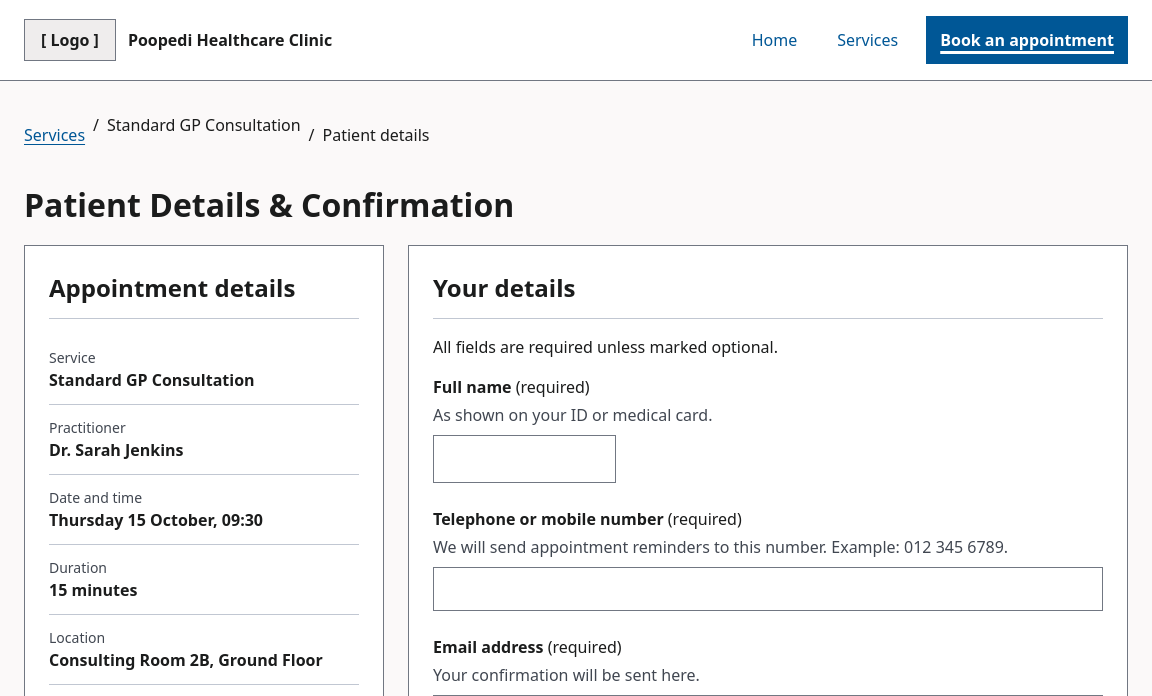
Test: BookingPage form › opens a confirmation dialog on a valid submit and moves focus into it
Type "Thandi Mokoena" into the field labelled "Full name (required)" at (524, 459), box [433, 435, 616, 483]
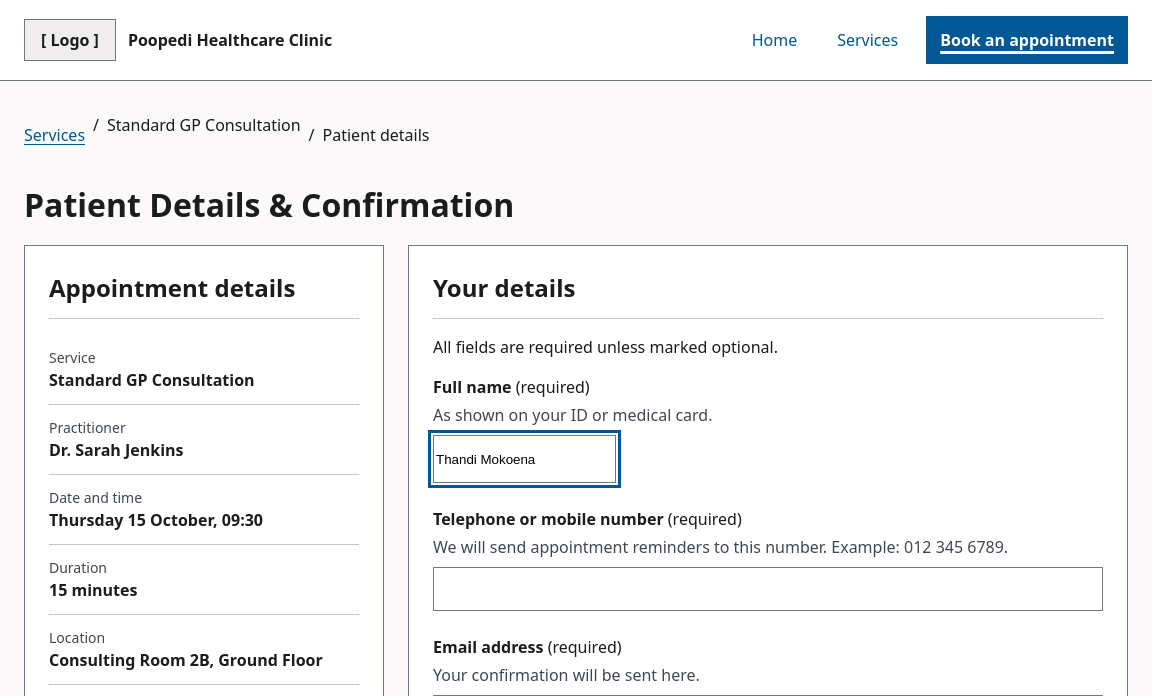
Type "012 345 6789" into the field labelled "Telephone or mobile number (required)" at (768, 589), box [433, 567, 1103, 611]
(page scrolled)
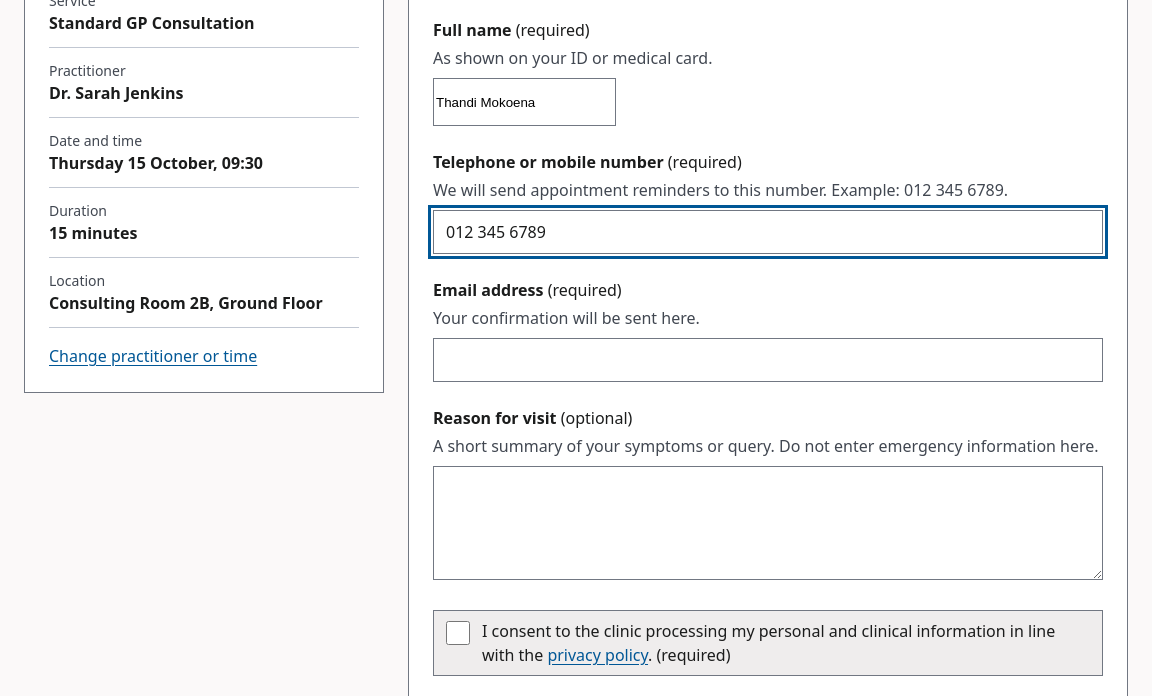
Type "thandi@example.com" into the field labelled "Email address (required)" at (768, 360), box [433, 338, 1103, 382]
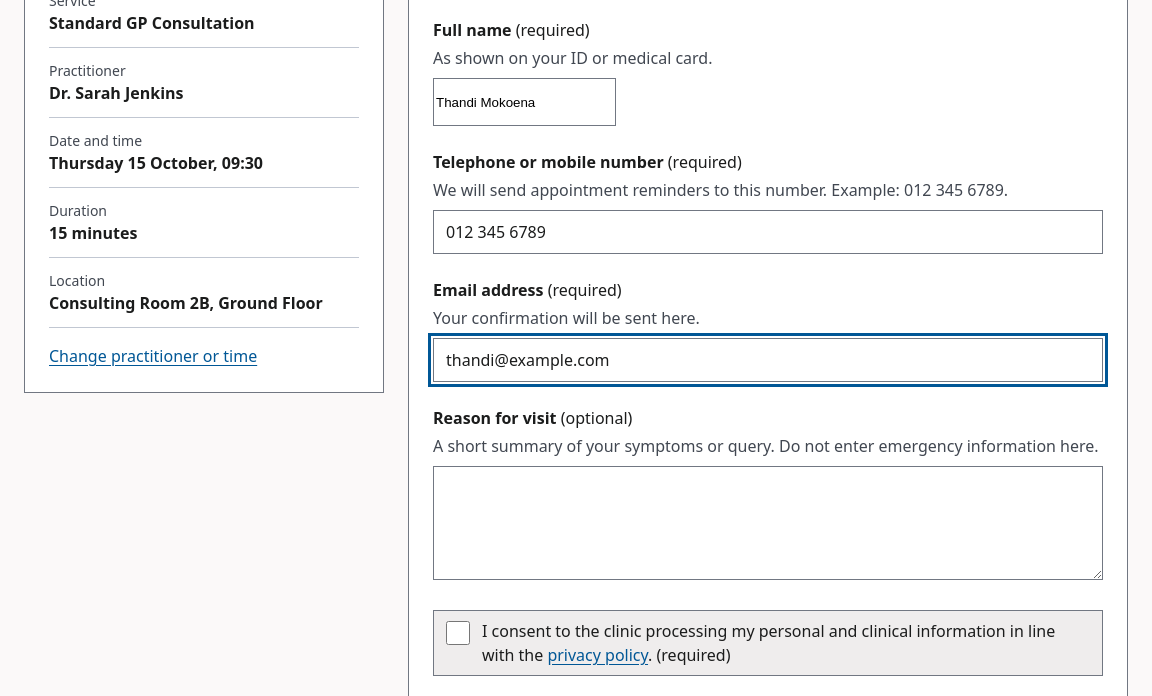
Click the checkbox labelled "I consent" at (458, 633), box [446, 621, 470, 645]
(page scrolled)
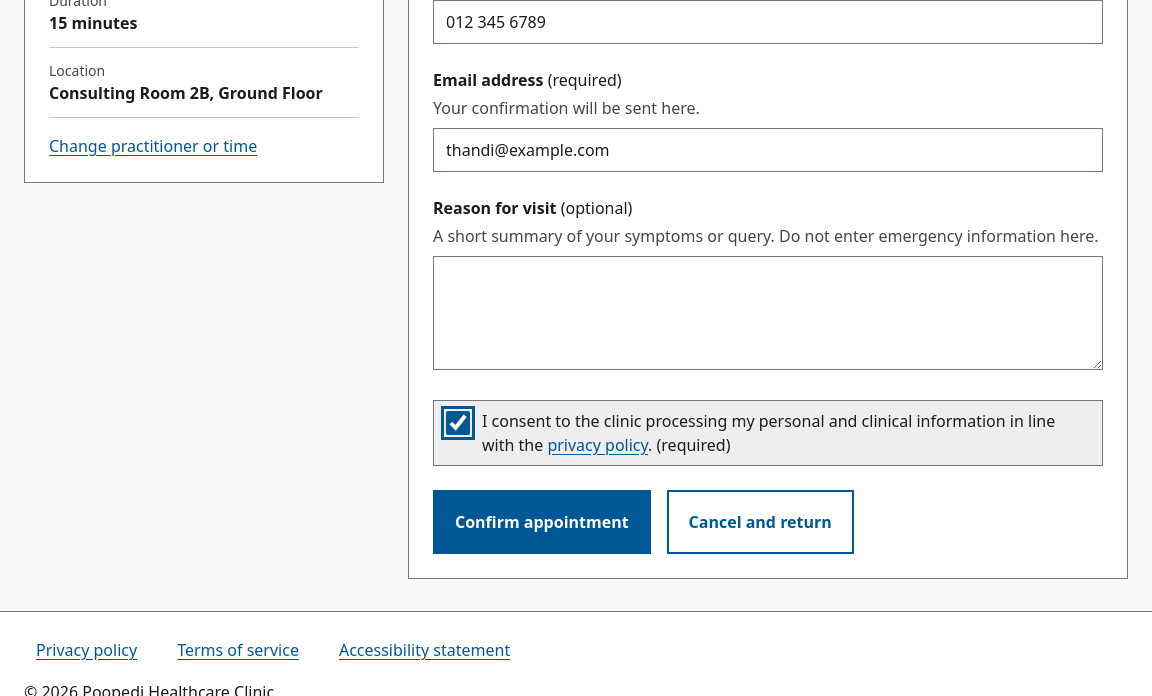
Click the button "Confirm appointment" at (542, 522), box [433, 490, 651, 554]
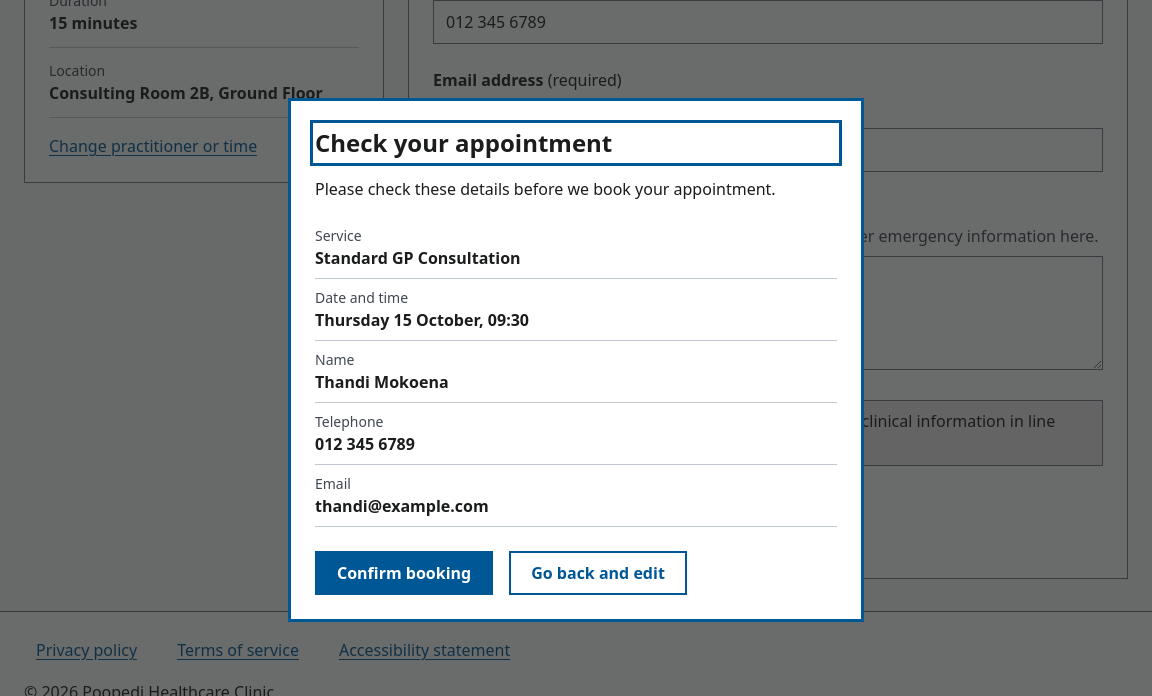
Expected: the dialog "Check your appointment" is shown, [288, 98, 864, 622]
Expected: the dialog "Check your appointment" shows "Thandi Mokoena", [315, 371, 449, 393]
